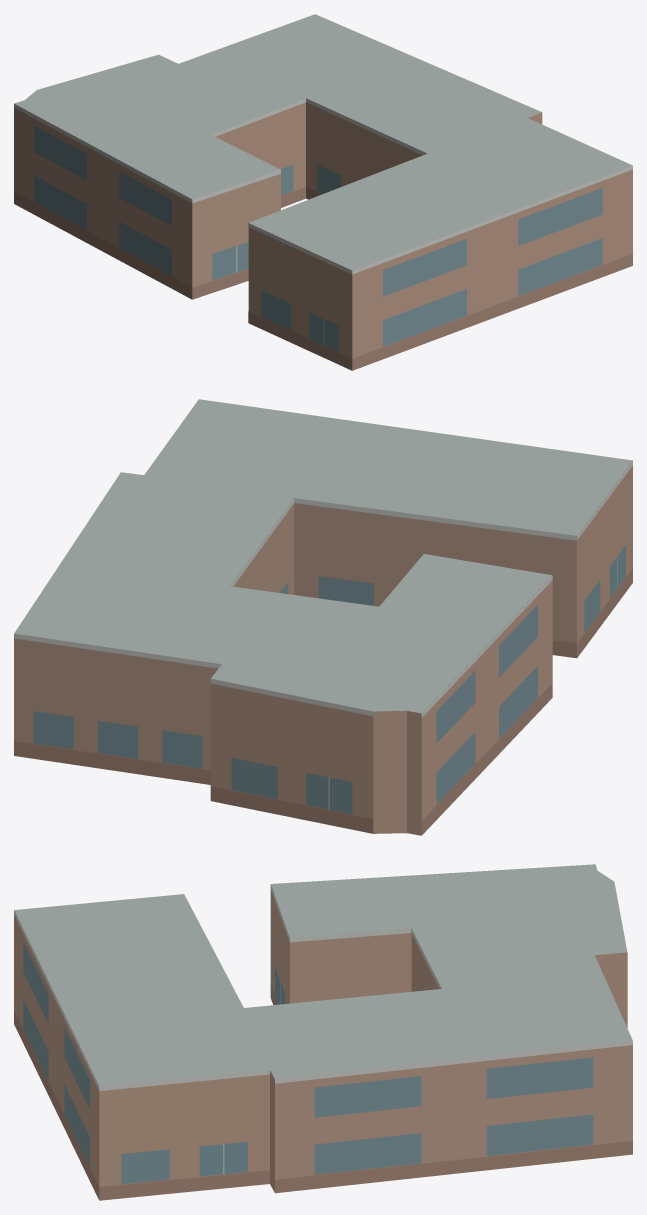
Rendered from survey-upis-32489301.glb.
3 renders of one model, top to bottom at view 1: azimuth 30°, elevation 25°; view 2: azimuth 150°, elevation 25°; view 3: azimuth 270°, elevation 25°, orthographic. The views are drawn at different scales.
Visible parts, largest first — view 1: survey-upis-32489301.tmp; view 2: survey-upis-32489301.tmp; view 3: survey-upis-32489301.tmp.
Part boxes in pixels (<box>): survey-upis-32489301.tmp: <box>14,14,632,370</box>; survey-upis-32489301.tmp: <box>14,399,632,835</box>; survey-upis-32489301.tmp: <box>14,864,632,1200</box>.
Size of the model in its own units: 25.52 by 6.1 by 30.01.
